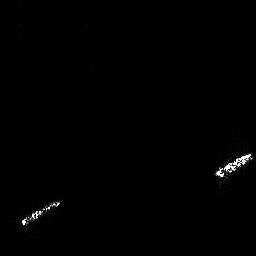ship: (17, 197, 65, 229), (211, 150, 256, 182)
